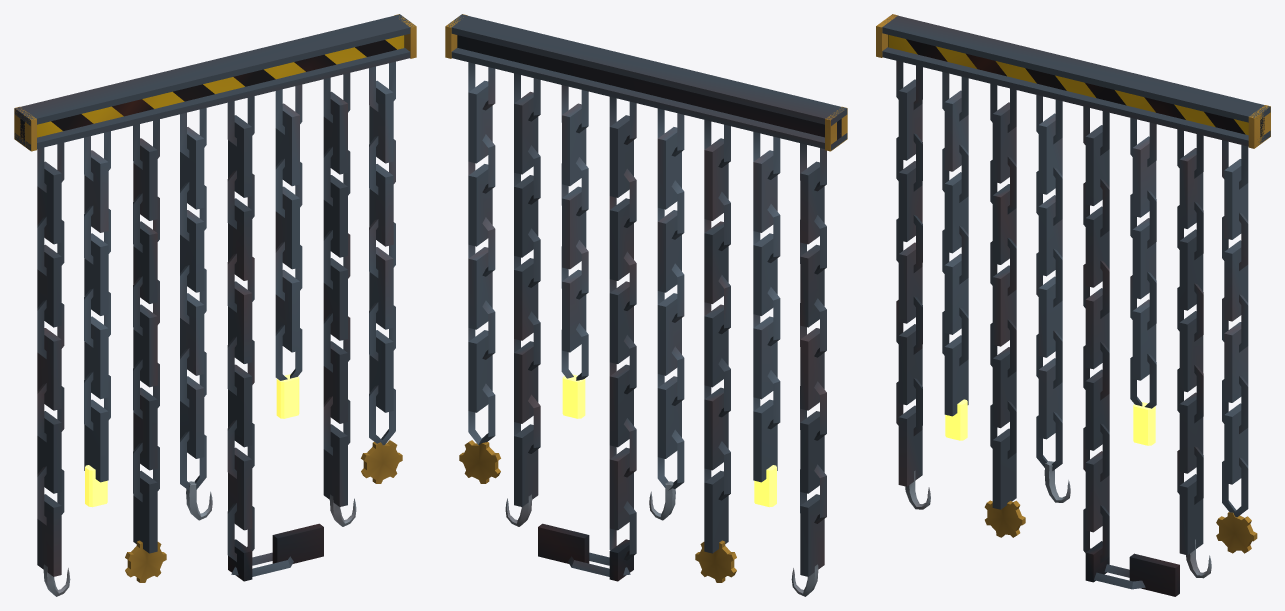
Rendered from curtain_forge.glb.
3 renders of one model, left to right at view 1: azimuth 30°, elevation 25°; view 2: azimuth 150°, elevation 25°; view 3: azimuth 330°, elevation 25°, orthographic.
Visible parts, largest first — view 1: curtain_forge; view 2: curtain_forge; view 3: curtain_forge.
Boxes of the visible parts, x1,y1,x2,y2 form: curtain_forge: (14,14,416,596); curtain_forge: (445,14,847,596); curtain_forge: (876,14,1270,596).
Bounding box in the file's own units: 3.3 × 4.2 × 0.25.
